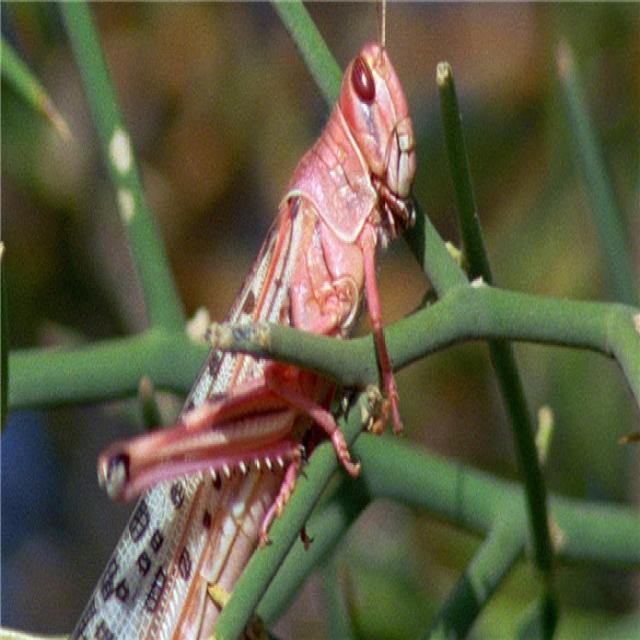ZhaMeng: (85, 45, 440, 618)
